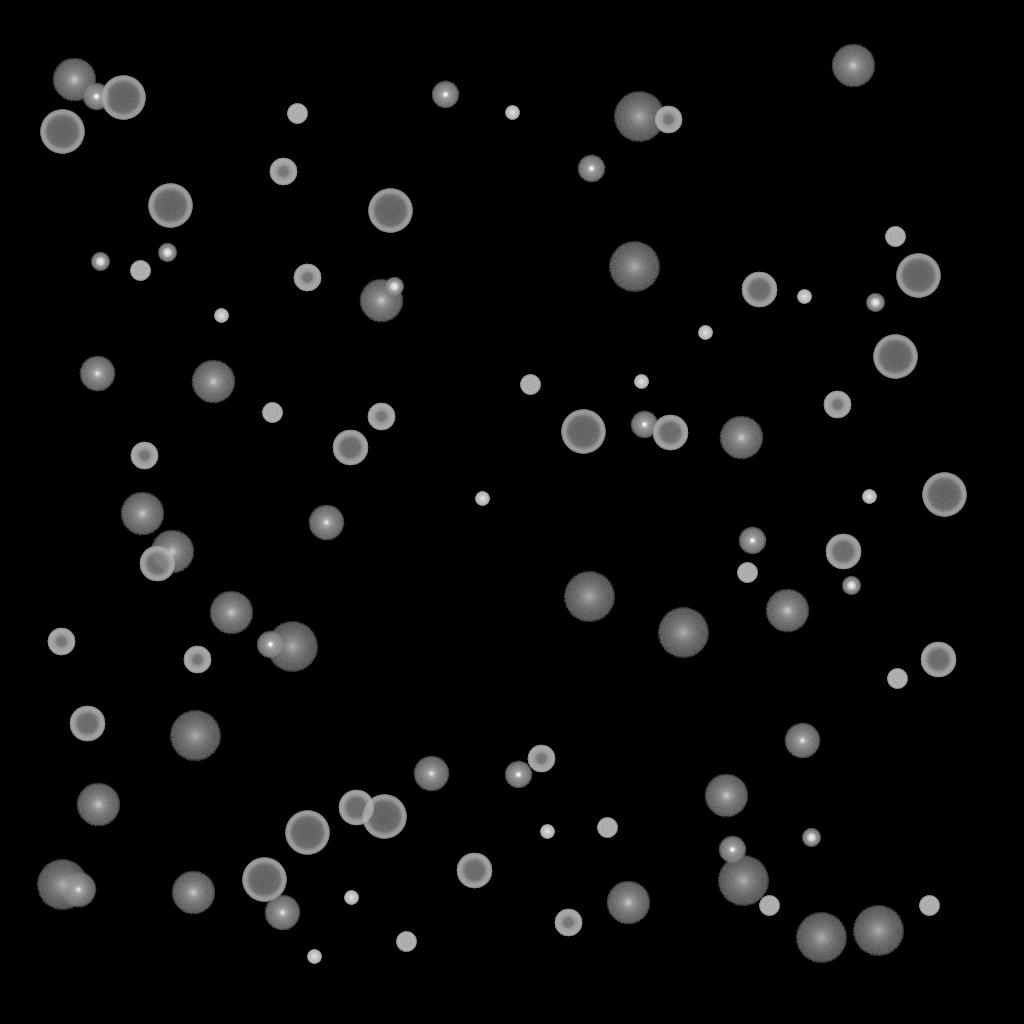depth:-10: (630, 411, 658, 439), (718, 836, 746, 864), (504, 761, 532, 789), (431, 81, 459, 109), (577, 155, 605, 183), (256, 631, 284, 659), (738, 527, 766, 555), (82, 83, 110, 111)
depth:-20: (866, 294, 884, 312), (842, 577, 860, 595), (385, 278, 403, 296), (802, 829, 820, 847), (158, 244, 176, 262), (91, 253, 109, 271)
depth:-30: (540, 825, 554, 839), (862, 490, 876, 504), (475, 492, 489, 506), (344, 891, 358, 905), (698, 326, 712, 340), (797, 290, 811, 304), (505, 106, 519, 120), (634, 375, 648, 389), (214, 309, 228, 323), (307, 950, 321, 964)
depth:-40: (597, 818, 617, 838), (396, 932, 416, 952), (887, 669, 907, 689), (520, 375, 540, 395), (262, 403, 282, 423), (737, 563, 757, 583), (885, 227, 905, 247), (130, 261, 150, 281), (759, 896, 779, 916), (287, 104, 307, 124), (919, 896, 939, 916)
depth:-50: (654, 106, 682, 134), (554, 909, 582, 937), (527, 745, 555, 773), (269, 158, 297, 186), (47, 628, 75, 656), (130, 442, 158, 470), (293, 264, 321, 292), (183, 646, 211, 674), (823, 391, 851, 419), (367, 403, 395, 431)
depth:-60: (332, 430, 368, 466), (456, 853, 492, 889), (338, 790, 374, 826), (741, 272, 777, 308), (652, 415, 688, 451), (920, 642, 956, 678), (69, 706, 105, 742), (825, 534, 861, 570), (139, 546, 175, 582)
depth:-70: (368, 189, 412, 233), (896, 254, 940, 298), (148, 184, 192, 228), (101, 76, 145, 120), (561, 410, 605, 454), (922, 473, 966, 517), (362, 795, 406, 839), (40, 110, 84, 154), (285, 811, 329, 855), (242, 858, 286, 902), (873, 335, 917, 379)
depth:0: (413, 756, 449, 792), (264, 895, 300, 931), (79, 356, 115, 392), (784, 723, 820, 759), (308, 505, 344, 541), (60, 872, 96, 908)
depth:10: (171, 871, 215, 915), (76, 783, 120, 827), (719, 416, 763, 460), (765, 589, 809, 633), (704, 774, 748, 818), (606, 881, 650, 925), (359, 279, 403, 323), (120, 492, 164, 536), (52, 58, 96, 102), (209, 591, 253, 635), (150, 530, 194, 574), (191, 360, 235, 404), (831, 44, 875, 88)
depth:20: (608, 242, 660, 292), (169, 711, 221, 761), (657, 608, 709, 658), (852, 906, 904, 956), (266, 622, 318, 672), (36, 860, 88, 910), (613, 92, 665, 142), (717, 856, 769, 906), (563, 572, 615, 622), (795, 913, 847, 963)
